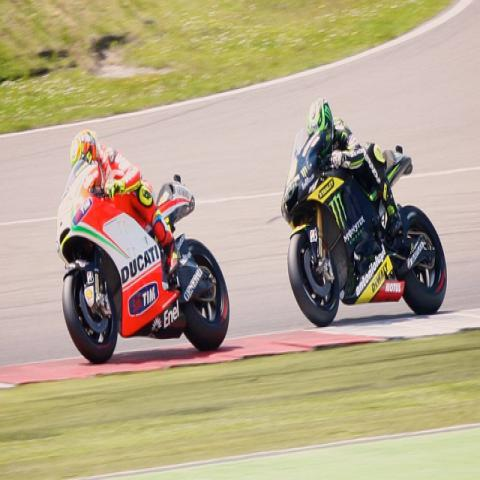motorcycle: (56, 160, 232, 364), (280, 130, 448, 328)
